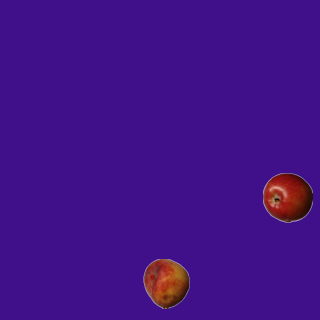Apple Braeburn: (262, 172, 312, 222)
Peach: (141, 258, 191, 308)
